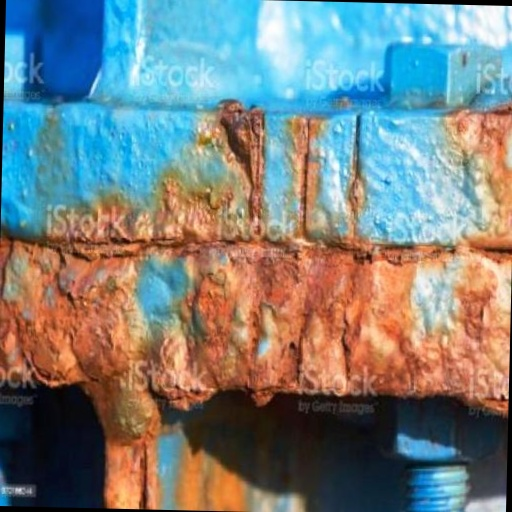corrosion: (0, 233, 512, 415), (441, 97, 512, 215)
crack: (292, 111, 332, 237), (343, 111, 375, 249), (130, 438, 159, 510)
